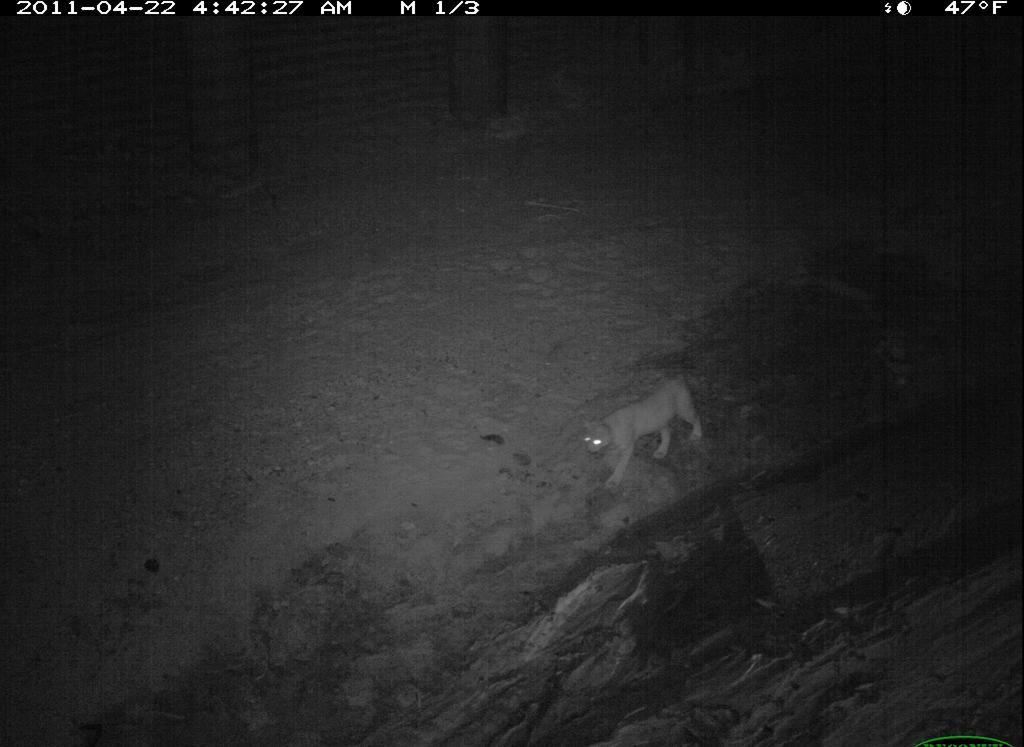bobcat: (575, 361, 720, 497)
